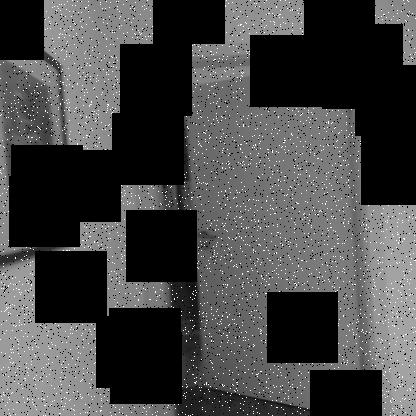Porte: (120, 36, 392, 416)
